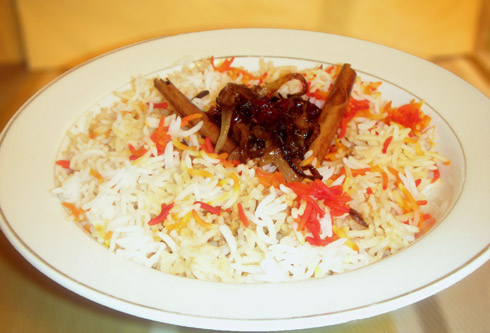plain rice: (77, 73, 435, 278)
